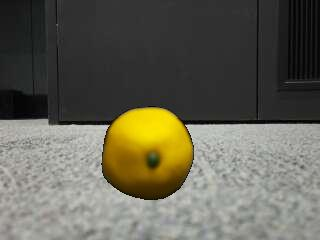lemon: (103, 108, 191, 199)
